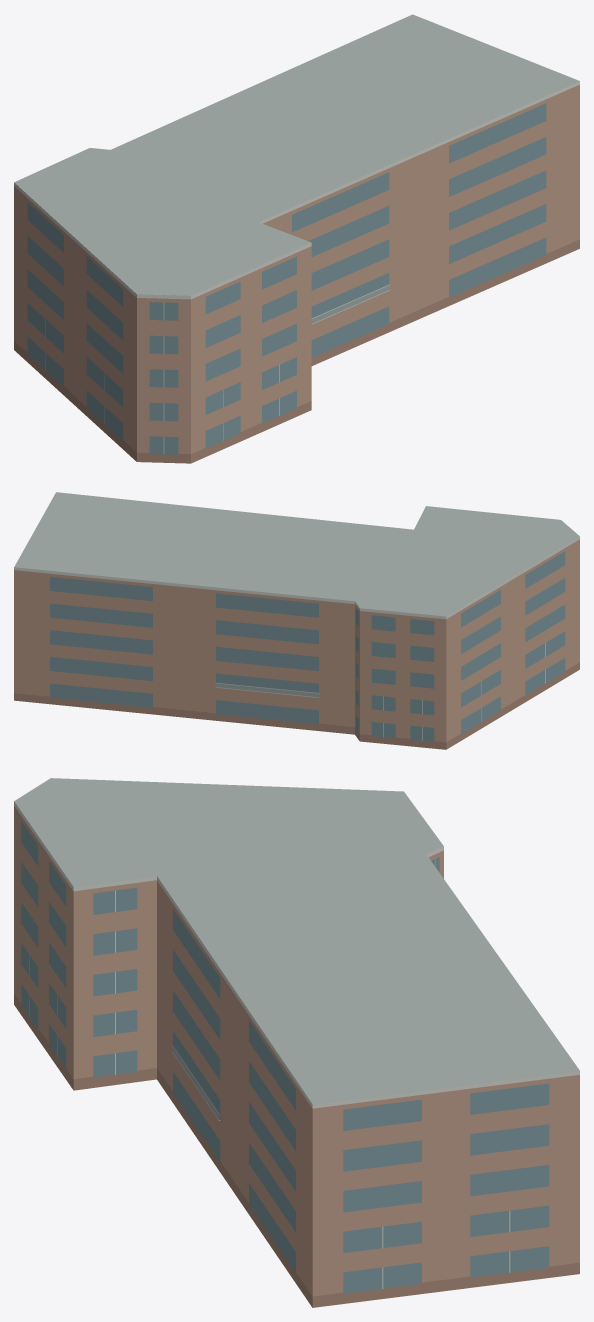
File: survey-upis-32678795.glb
3 views of the same model, one above another, from view 1: azimuth 30°, elevation 25°; view 2: azimuth 150°, elevation 25°; view 3: azimuth 270°, elevation 25° (orthographic). The views are drawn at different scales.
Visible parts, largest first — view 1: survey-upis-32678795.tmp; view 2: survey-upis-32678795.tmp; view 3: survey-upis-32678795.tmp.
Part boxes in pixels (x1,y1,x2,y2): survey-upis-32678795.tmp: (14,14,579,463); survey-upis-32678795.tmp: (14,492,579,749); survey-upis-32678795.tmp: (14,778,579,1307).
Size of the model in its own units: 39.55 by 11.5 by 28.99.
